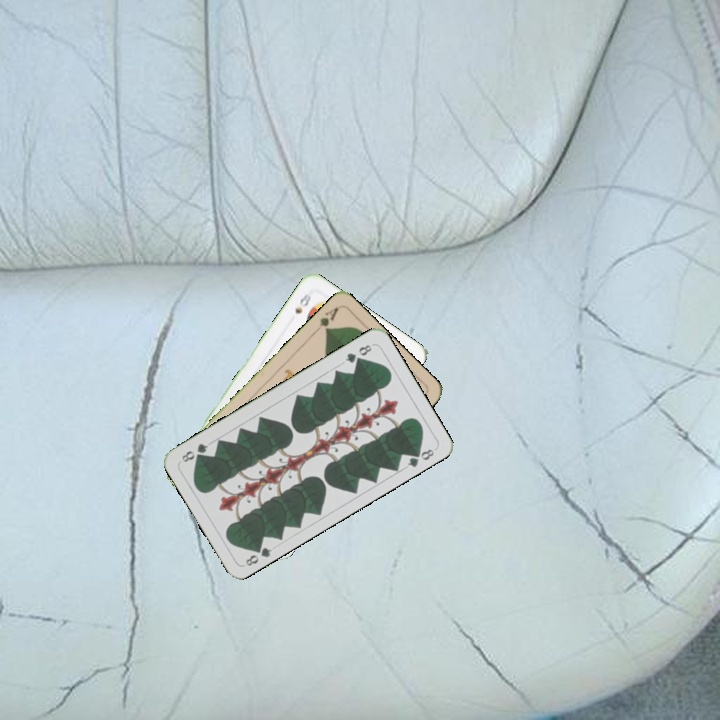G8: (241, 540, 274, 569), (341, 340, 374, 366)
GA: (309, 303, 341, 336)
S8: (291, 289, 314, 316)
